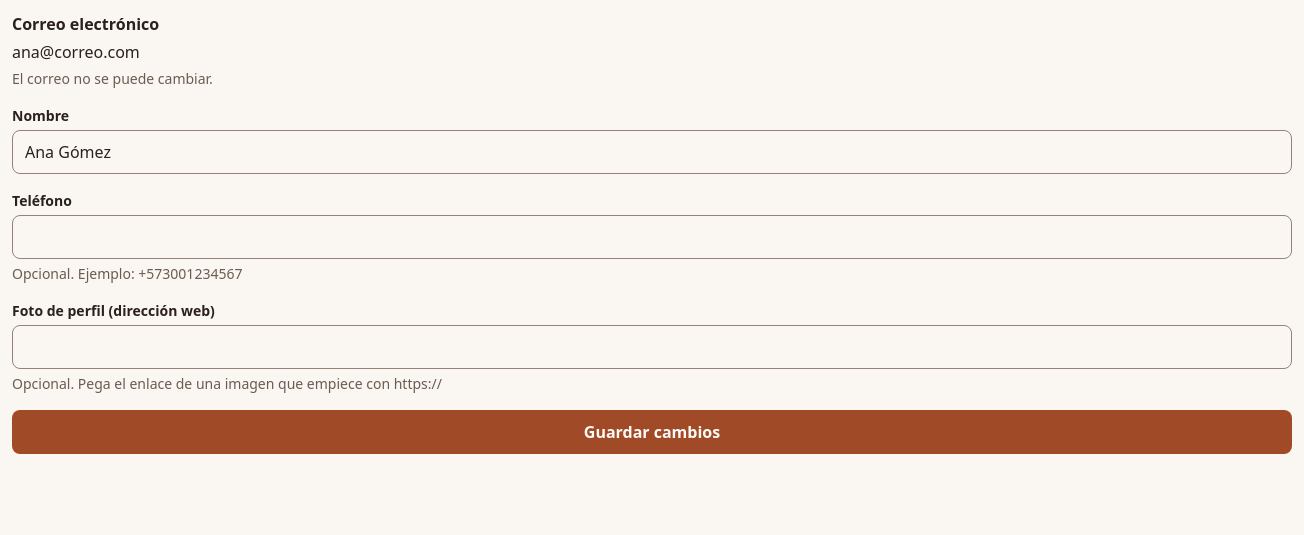
Test: DatosPerfil › guarda nombre, teléfono y foto sin espacios sobrantes y avisa que quedaron guardados
Replace the text in the field labelled "Nombre" with "  Ana María " at {"x": 652, "y": 152}, box [12,130,1292,174]
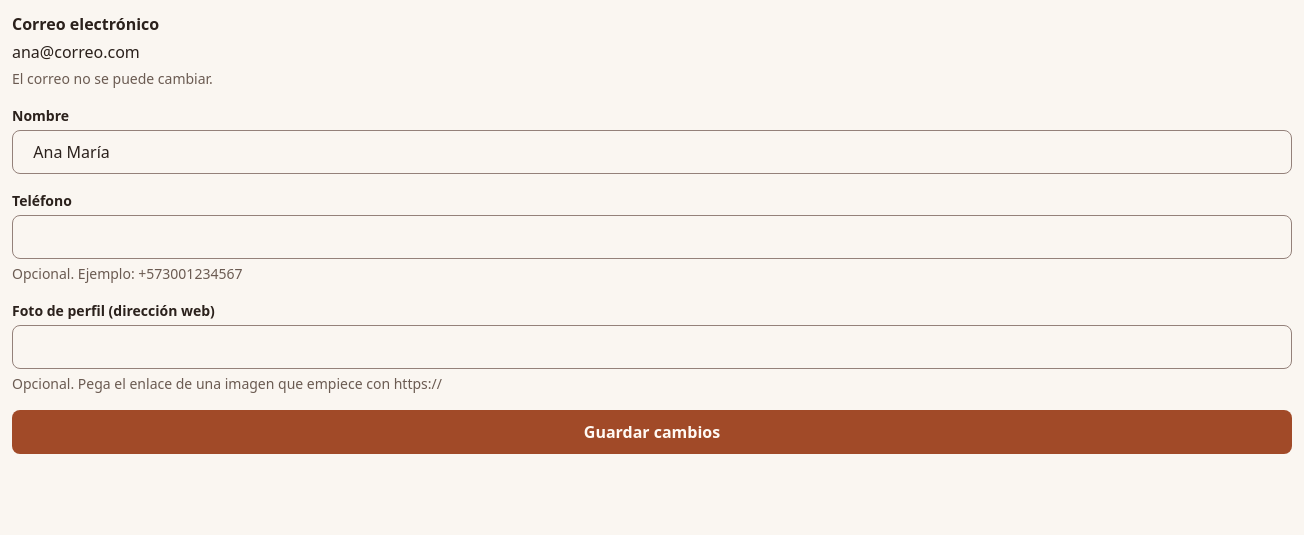
Type " +573001234567 " into the field labelled "Teléfono".
click(652, 237); type(" +573001234567 ")  # box [12,215,1292,259]
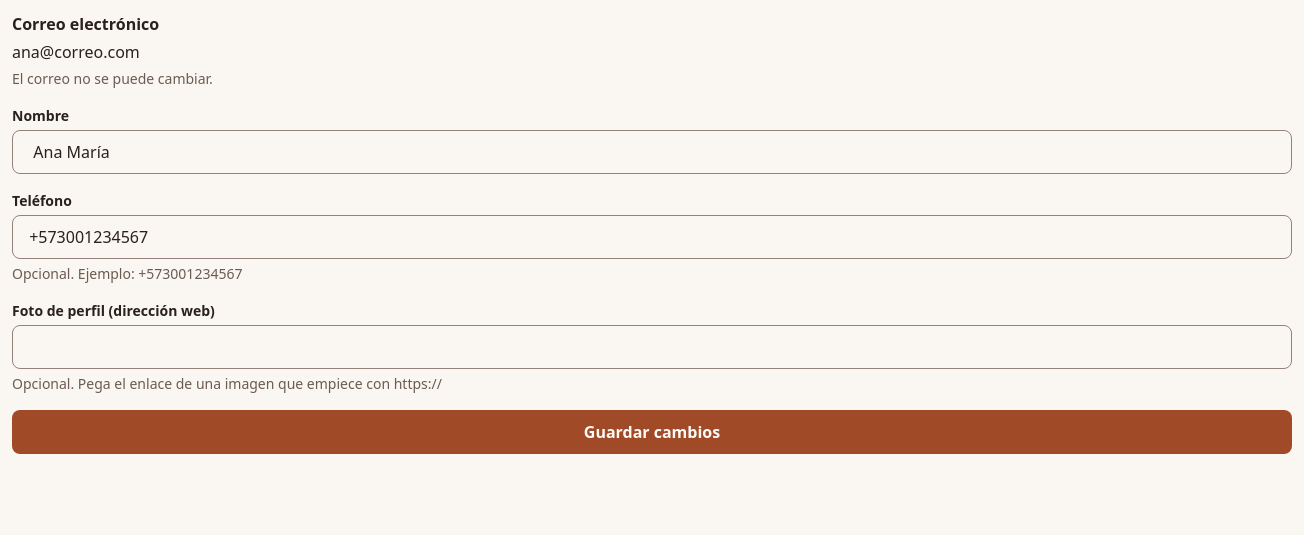
Type "https://f.co/a.jpg" into the field labelled "Foto de perfil (dirección web)".
click(652, 347); type("https://f.co/a.jpg")  # box [12,325,1292,369]
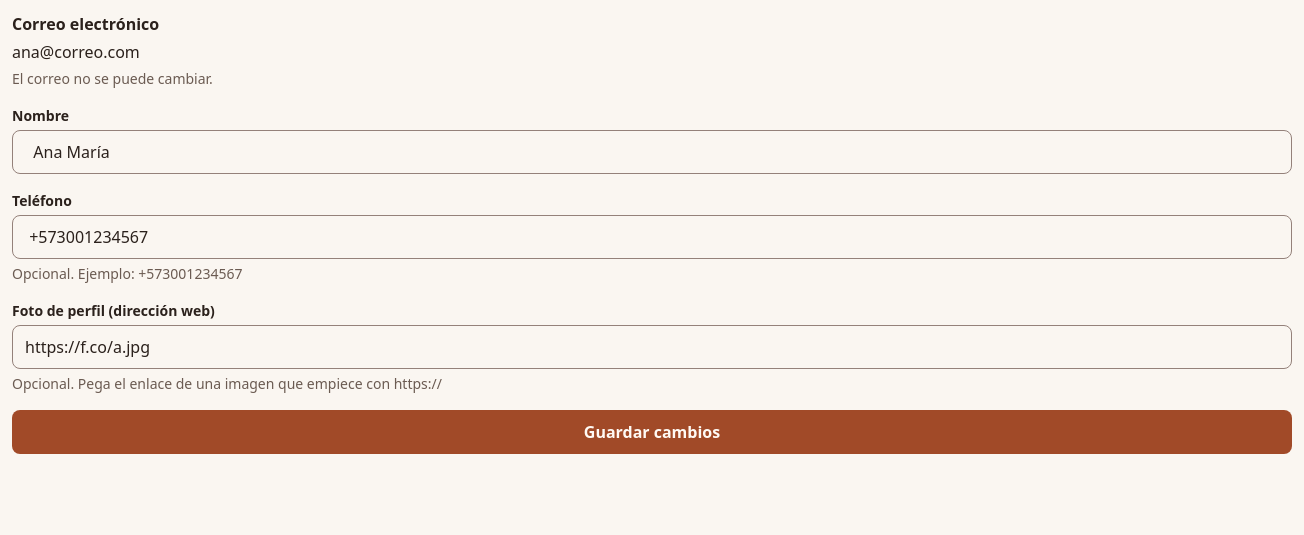
Click the button "Guardar cambios".
click(652, 432)  # box [12,410,1292,454]
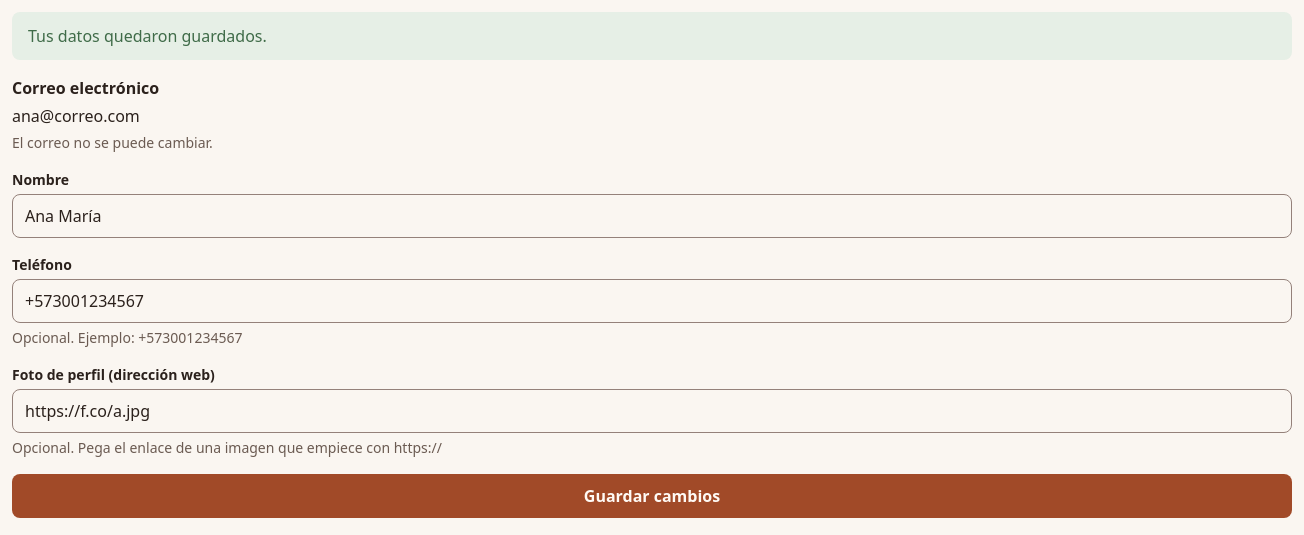
Now the text "Tus datos quedaron guardados." is shown, box [12,12,1292,60]
